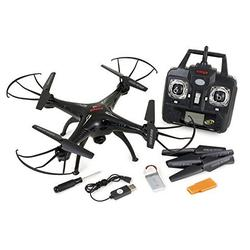drone: (5, 56, 197, 176)
